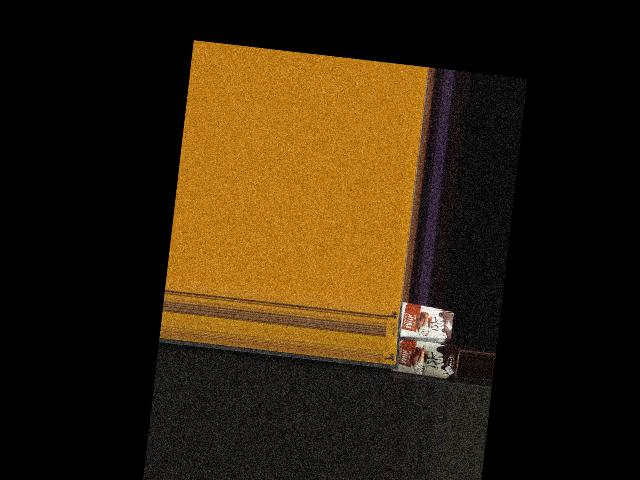chocolate: (392, 298, 456, 342)
